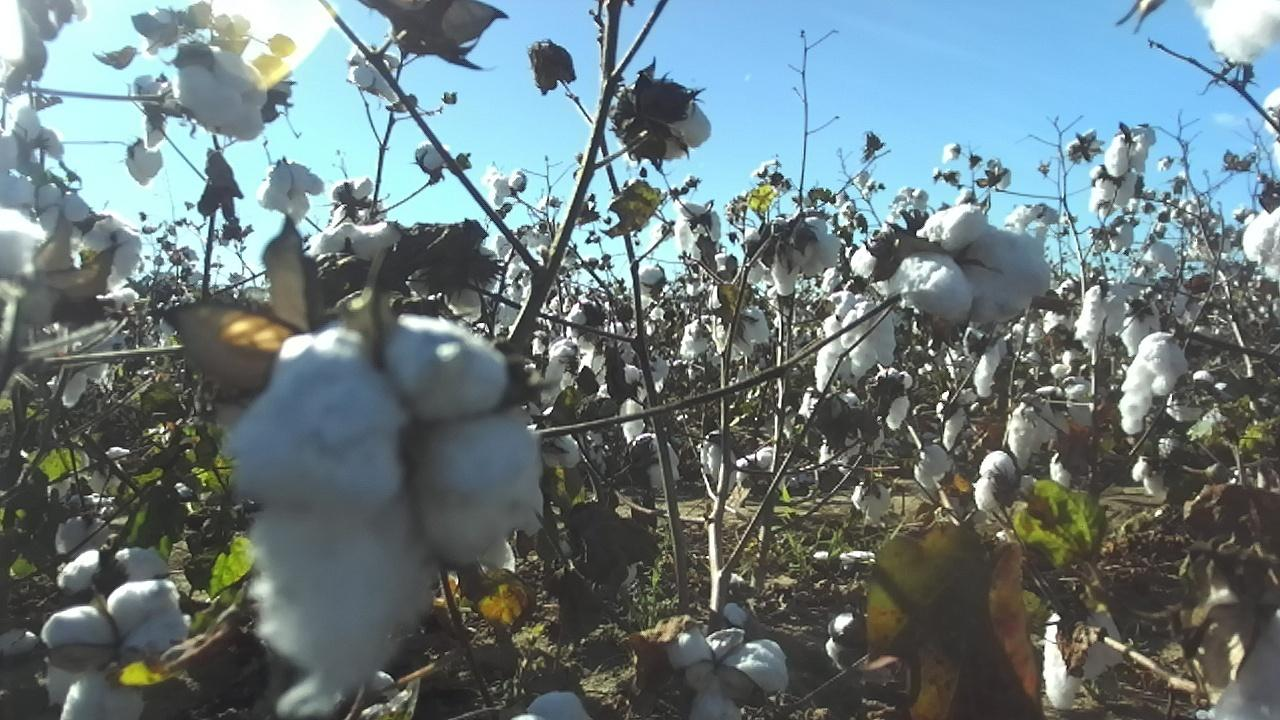cotton_ready: (219, 315, 545, 675), (41, 582, 200, 720), (894, 204, 1049, 329), (672, 630, 787, 720), (1044, 607, 1127, 708), (1118, 330, 1194, 437), (177, 52, 269, 139), (1214, 605, 1280, 720), (745, 217, 844, 293), (622, 89, 712, 162), (55, 544, 169, 601), (280, 672, 394, 720), (1197, 0, 1280, 64), (840, 294, 899, 374), (1009, 384, 1065, 466), (256, 159, 325, 222), (313, 222, 404, 265), (1074, 280, 1127, 349), (84, 222, 140, 283), (349, 44, 405, 105), (36, 180, 94, 238), (977, 451, 1034, 510), (0, 205, 44, 281), (716, 304, 772, 361), (1242, 205, 1280, 282), (632, 434, 680, 493), (0, 137, 35, 217), (512, 690, 597, 720)
